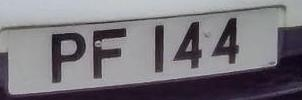1: (141, 20, 173, 77)
4: (168, 16, 208, 75), (209, 13, 247, 71)
F: (88, 22, 130, 84)
P: (44, 26, 91, 87)
